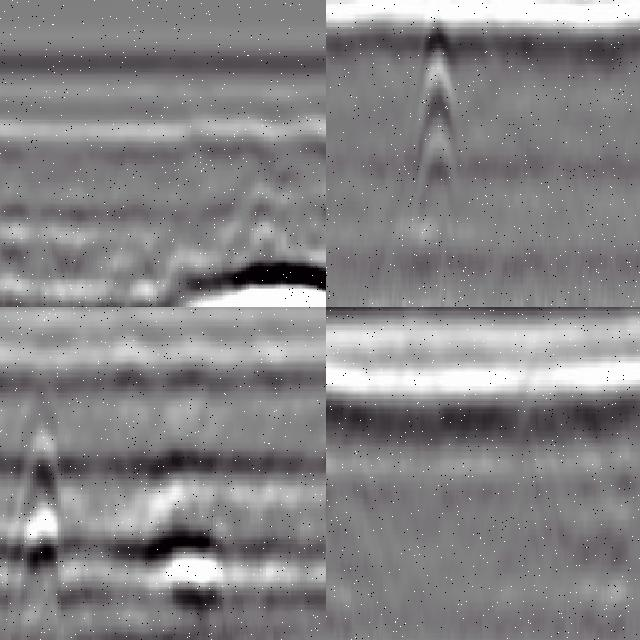crack: (420, 11, 461, 226)
loose: (1, 396, 246, 640), (152, 179, 327, 308), (327, 433, 409, 640)
